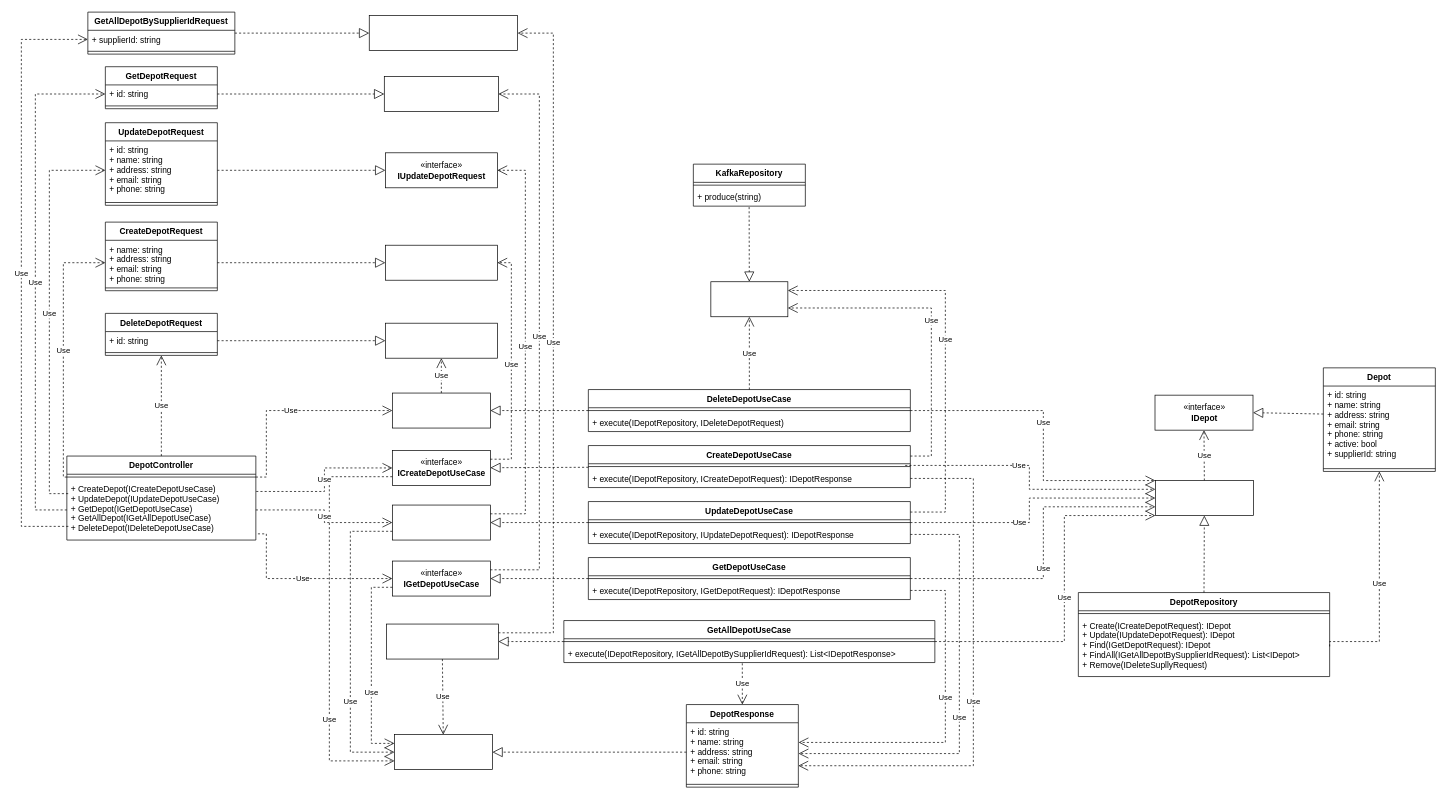
Some shapes in this 1448 by 800 pixel diagram are drawn without their labels. The centre of each missing label's shape, as x and y in pixels:
"«interface» ICreateDepotRequest" goes at pixel 441 262.
"«interface» IDeleteDepot UseCase" goes at pixel 441 410.
"«interface» IDeleteDepotRequest" goes at pixel 441 340.
"«interface» IDepotRepository" goes at pixel 1204 498.
"«interface» IDepotResponse" goes at pixel 443 752.
"«interface» IGetAllDepotBySupplierIdRequest" goes at pixel 443 33.
"«interface» IGetAllDepotUseCase" goes at pixel 442 641.
"«interface» IGetDepotRequest" goes at pixel 441 94.
"«interface» IKafkaRepository" goes at pixel 749 299.
"«interface» IUpdateDepotUseCase" goes at pixel 441 522.
